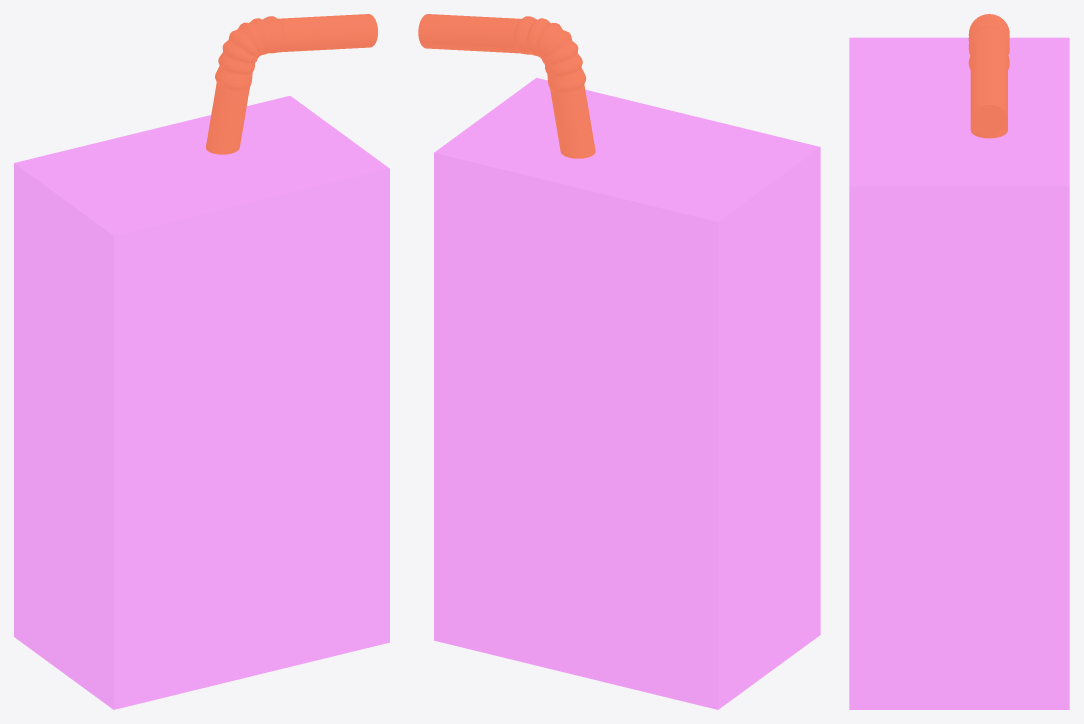
Rendered from JUICE.glb.
3 renders of one model, left to right at view 1: azimuth 30°, elevation 25°; view 2: azimuth 150°, elevation 25°; view 3: azimuth 270°, elevation 25°, orthographic. The views are drawn at different scales.
Parts seen in each view (by area): view 1: Cube.001, Cylinder.004; view 2: Cube.001, Cylinder.004; view 3: Cube.001, Cylinder.004.
Part boxes in pixels (box(x1,y1,x2,y2)): Cube.001: box(14, 96, 389, 709); Cylinder.004: box(206, 14, 377, 154); Cube.001: box(434, 77, 820, 709); Cylinder.004: box(418, 14, 595, 158); Cube.001: box(849, 37, 1069, 709); Cylinder.004: box(968, 14, 1009, 138).
Size of the model in its own units: 14.99 by 26.4 by 8.04.
